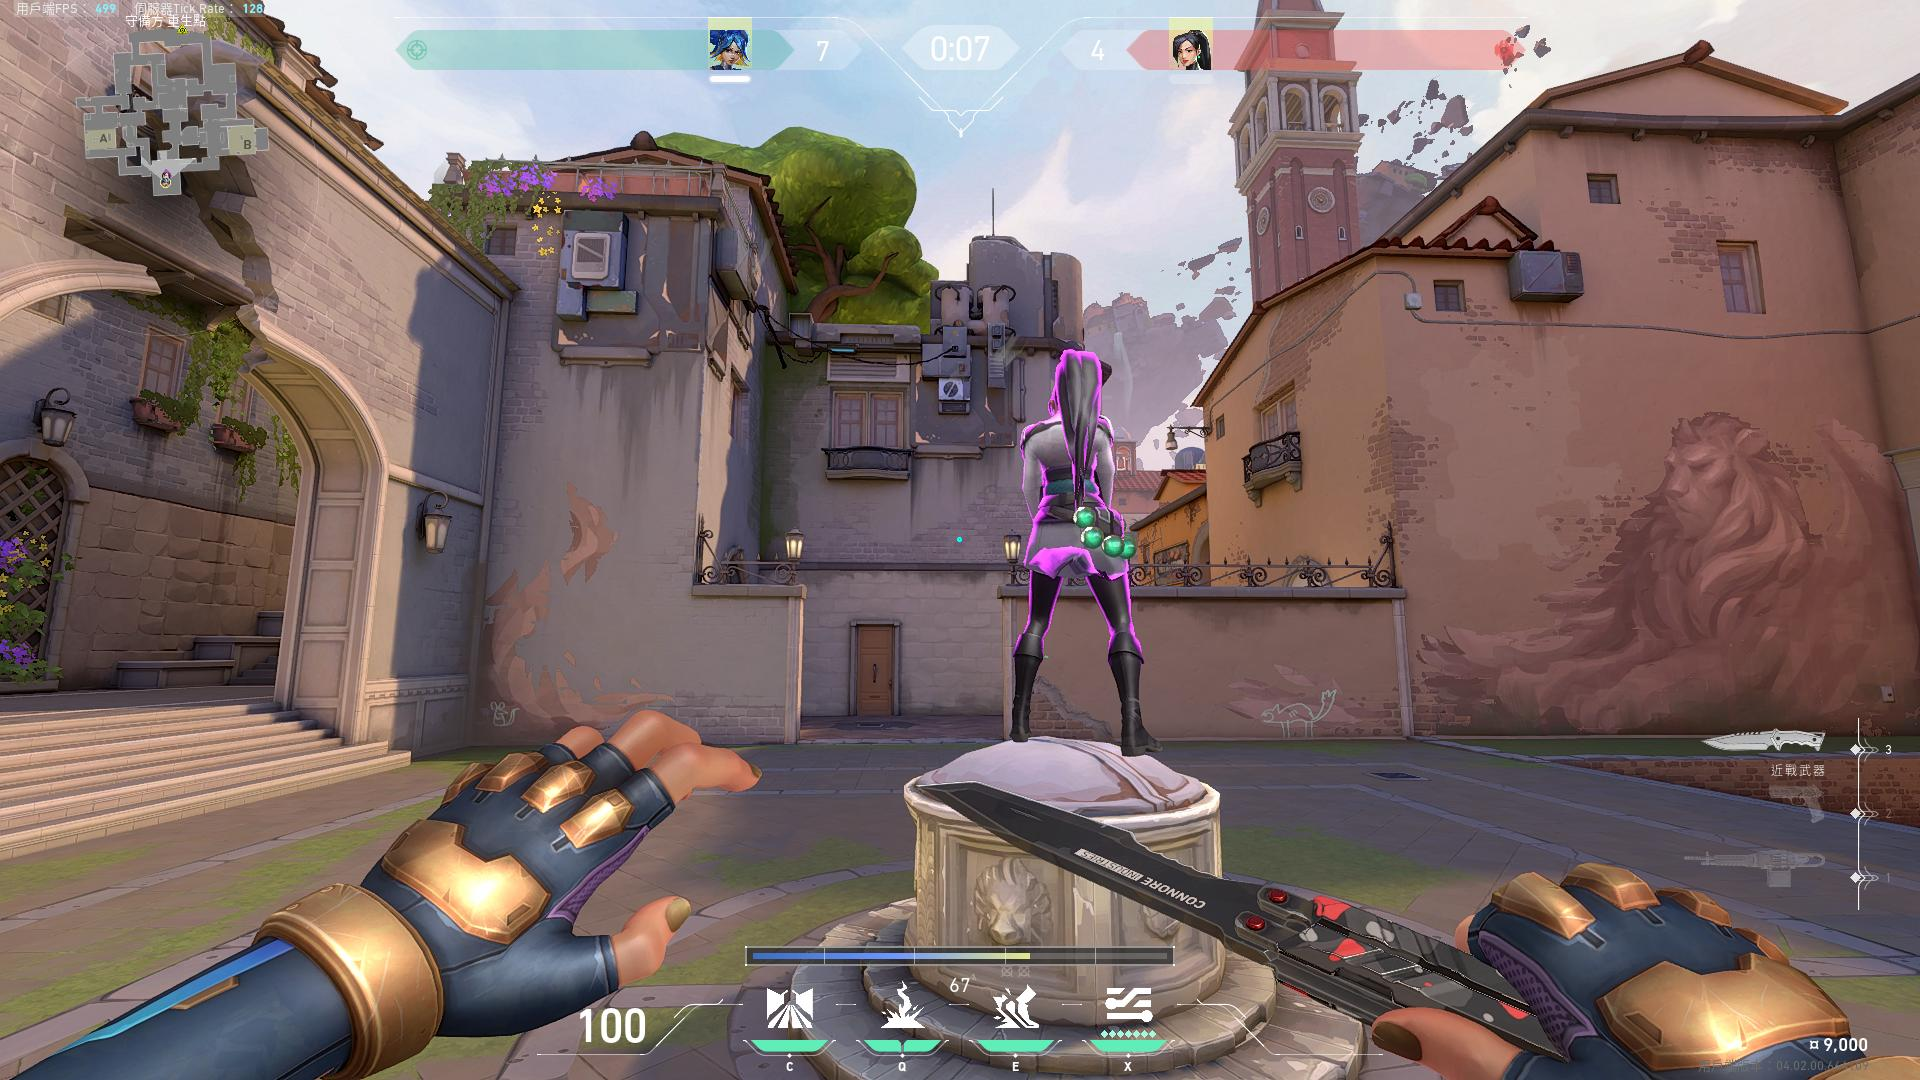enemyBody: (1035, 433, 1116, 529)
enemyHead: (1047, 378, 1097, 419)
